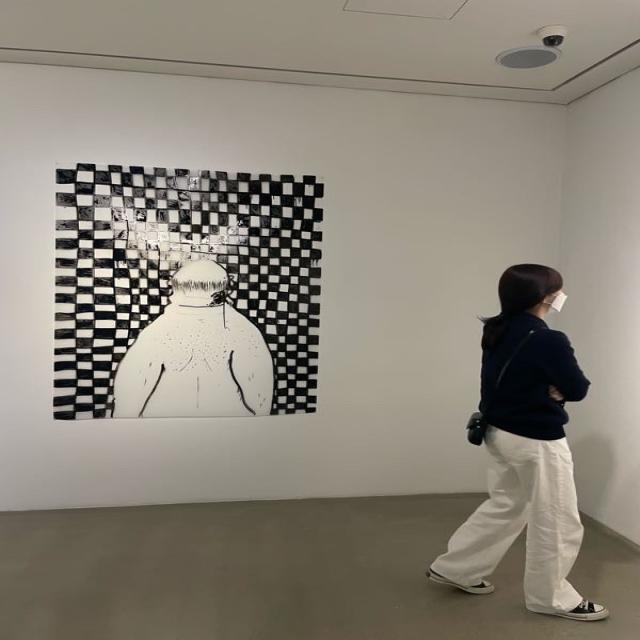cottonpants: (431, 412, 589, 617)
longsleeve: (481, 316, 592, 440)
